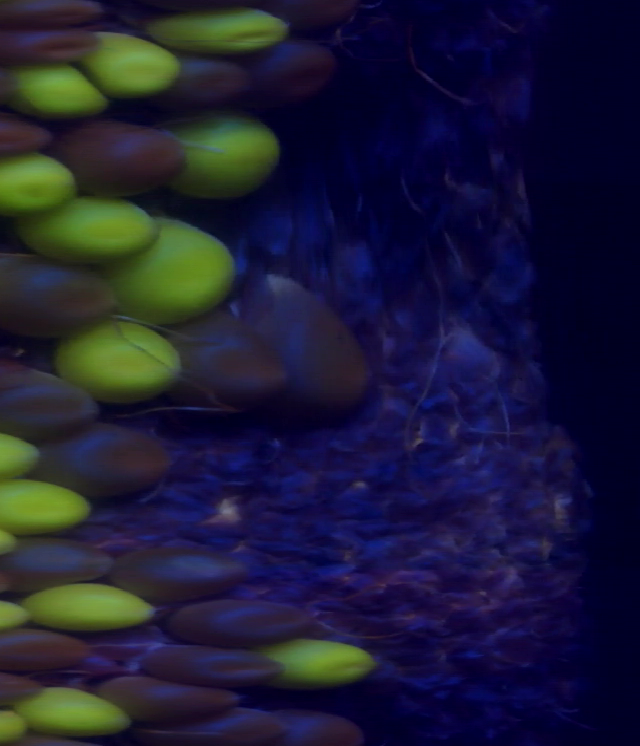fluorescent: (118, 215, 239, 326), (55, 317, 204, 402), (166, 108, 278, 198), (16, 198, 162, 264), (80, 22, 177, 99), (21, 584, 165, 635), (0, 472, 101, 541), (143, 10, 288, 58), (5, 59, 107, 120), (17, 685, 136, 737), (255, 640, 369, 693), (0, 153, 83, 213), (0, 428, 38, 480), (0, 701, 41, 746)
nonfluorescent: (244, 276, 383, 410), (170, 314, 296, 412), (62, 122, 192, 197), (34, 424, 171, 493), (0, 253, 119, 332), (0, 366, 109, 444), (106, 547, 249, 598), (164, 600, 317, 644), (146, 643, 284, 691), (172, 49, 263, 116), (100, 677, 239, 720), (0, 539, 114, 587), (149, 710, 291, 746), (251, 39, 332, 98), (0, 23, 107, 65), (0, 1, 118, 35), (262, 708, 360, 746), (0, 634, 99, 668), (0, 112, 58, 166), (0, 672, 41, 709)
